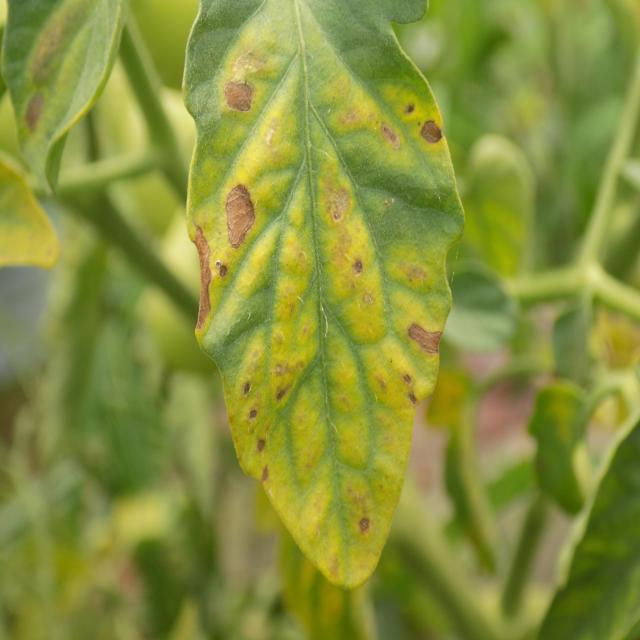tomato_early blight: (177, 0, 460, 588)
